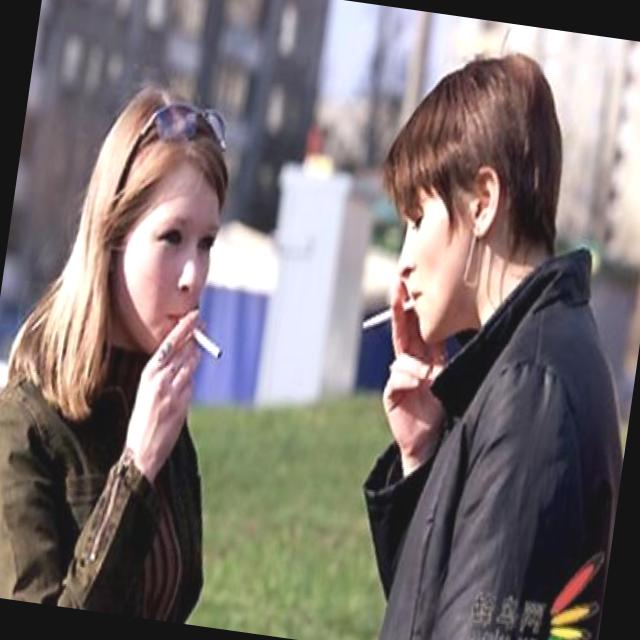smoke: (356, 292, 418, 337), (178, 318, 228, 363)
